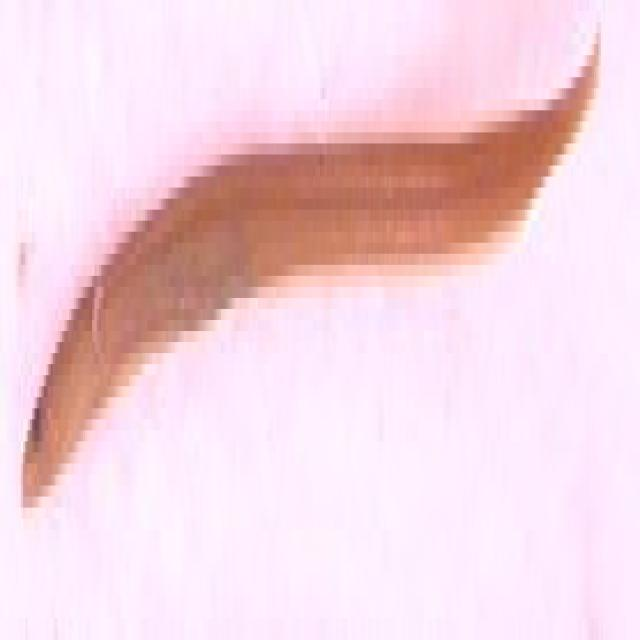Freshwater-Eel: (8, 22, 614, 522)
